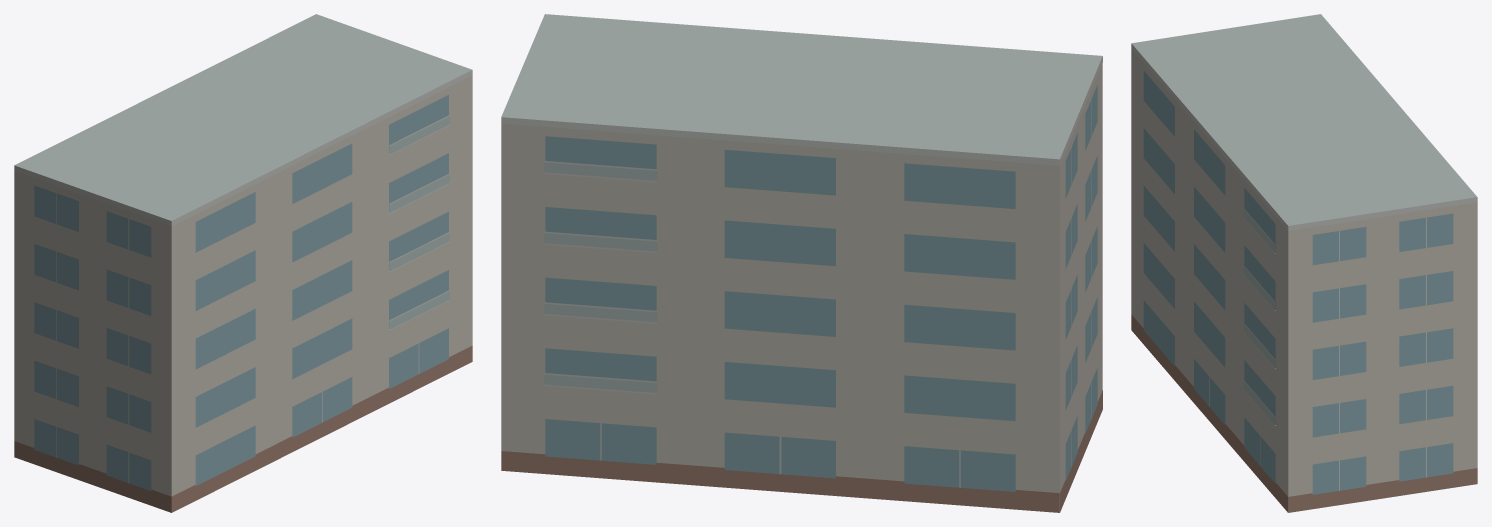
The model's file is survey-upis-32936345.glb.
3 views of the same model, side by side, from view 1: azimuth 30°, elevation 25°; view 2: azimuth 150°, elevation 25°; view 3: azimuth 270°, elevation 25° (orthographic). The views are drawn at different scales.
Visible parts, largest first — view 1: survey-upis-32936345.tmp; view 2: survey-upis-32936345.tmp; view 3: survey-upis-32936345.tmp.
Boxes of the visible parts, bbox=[...] form: survey-upis-32936345.tmp: bbox=[14, 14, 472, 512]; survey-upis-32936345.tmp: bbox=[501, 14, 1102, 512]; survey-upis-32936345.tmp: bbox=[1131, 14, 1477, 512].
Size of the model in its own units: 21.39 by 13.5 by 14.77.
